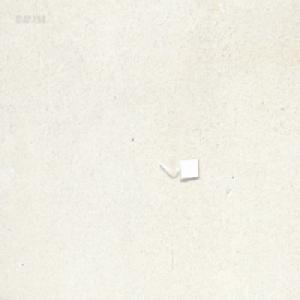LuggageTag: (158, 156, 199, 182)
